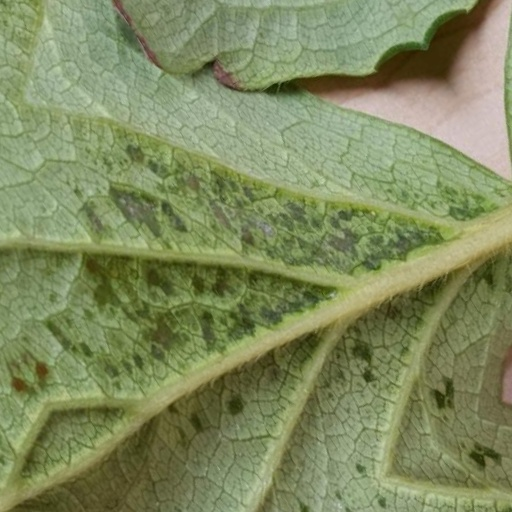Angular Leafspot: (6, 0, 511, 471)
